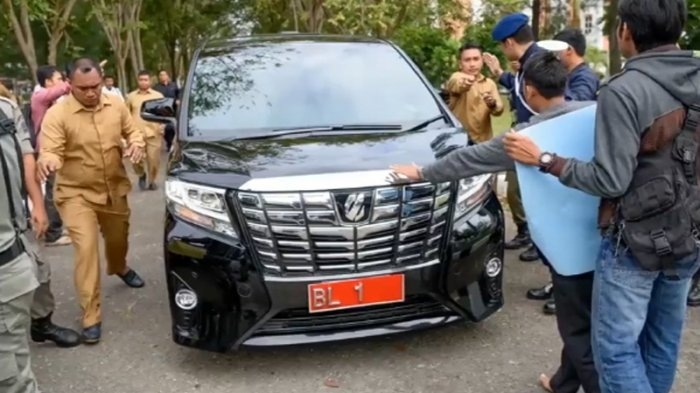plate: (309, 275, 405, 310)
